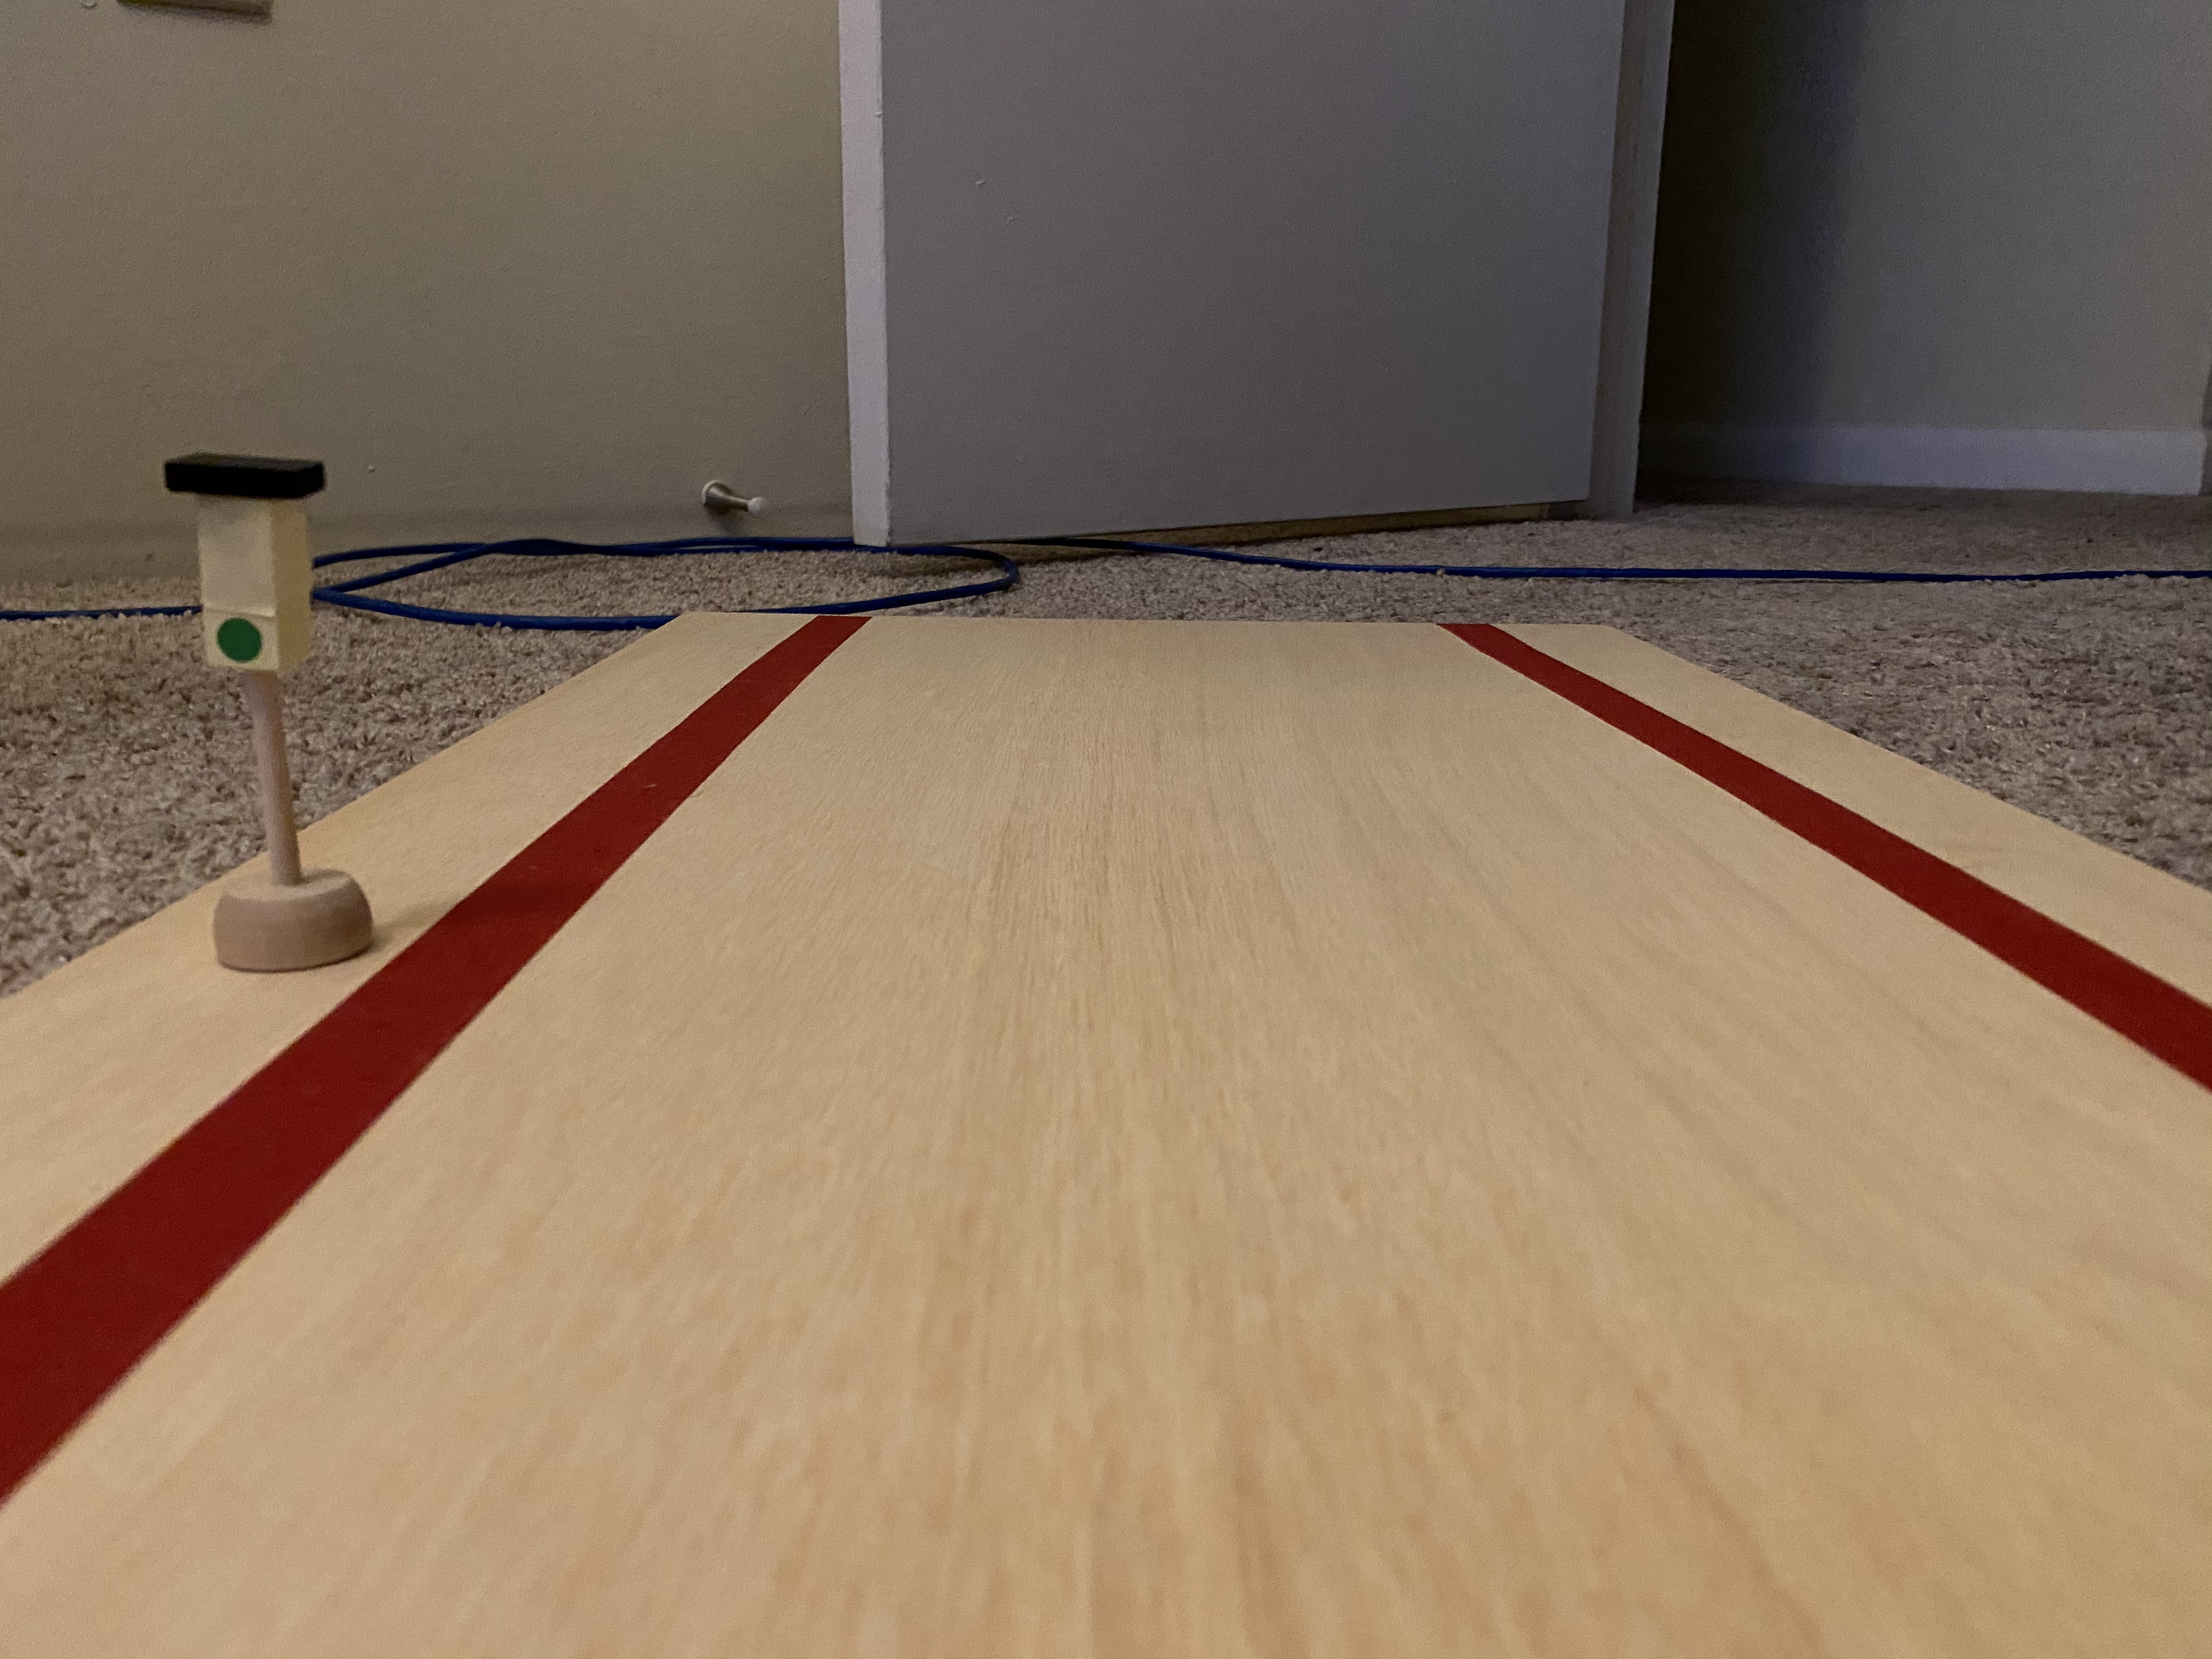Green Traffic Light: (145, 441, 338, 692)
